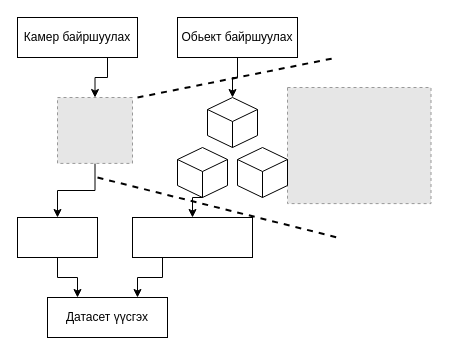
Image size: 449x355. Some labels were removed from this diagram. Grey dashed boxes stand in for pictures. Each missing label, with the box of its shape:
Зураг дарах: (16, 216, 98, 258)
Обьектийн зааг тодорхойлох: (132, 216, 252, 258)
